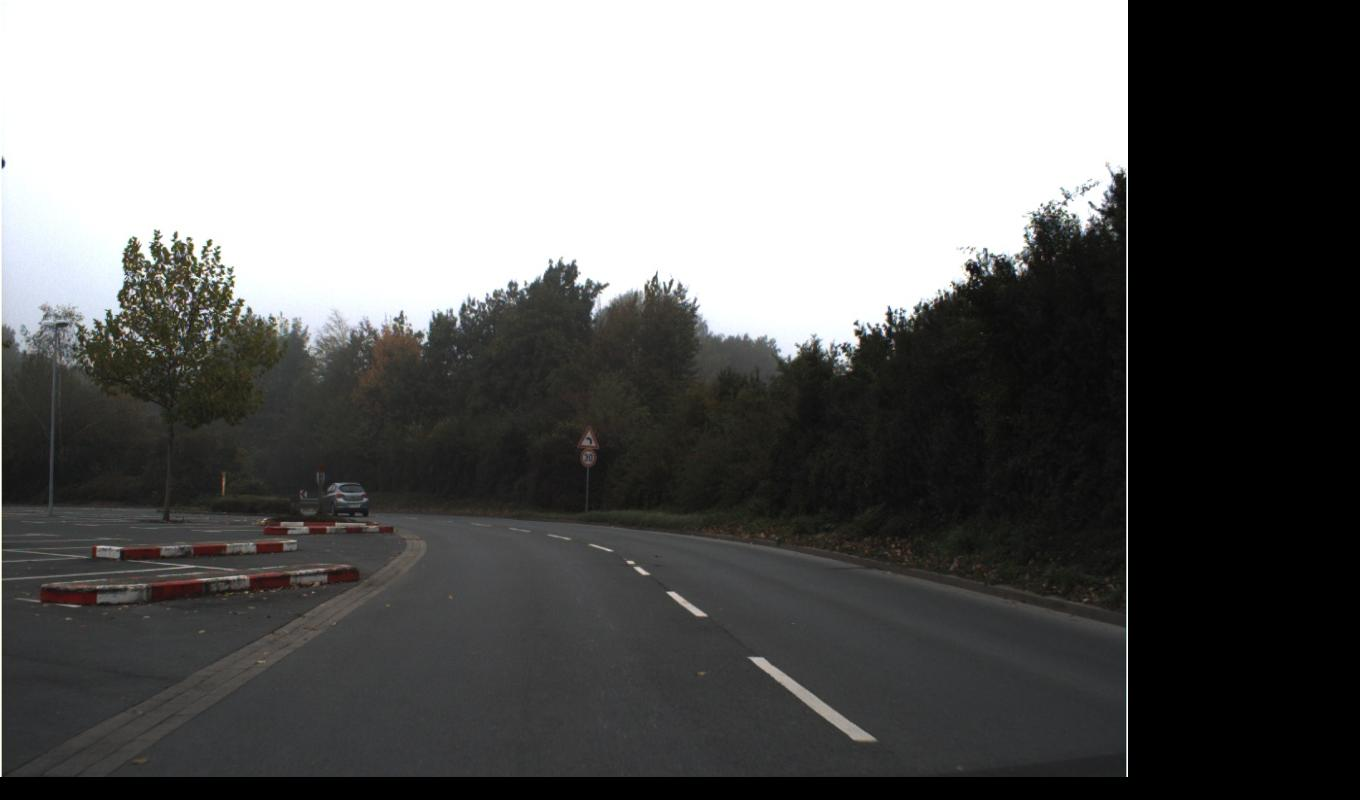speed limit 30: (576, 425, 600, 468)
